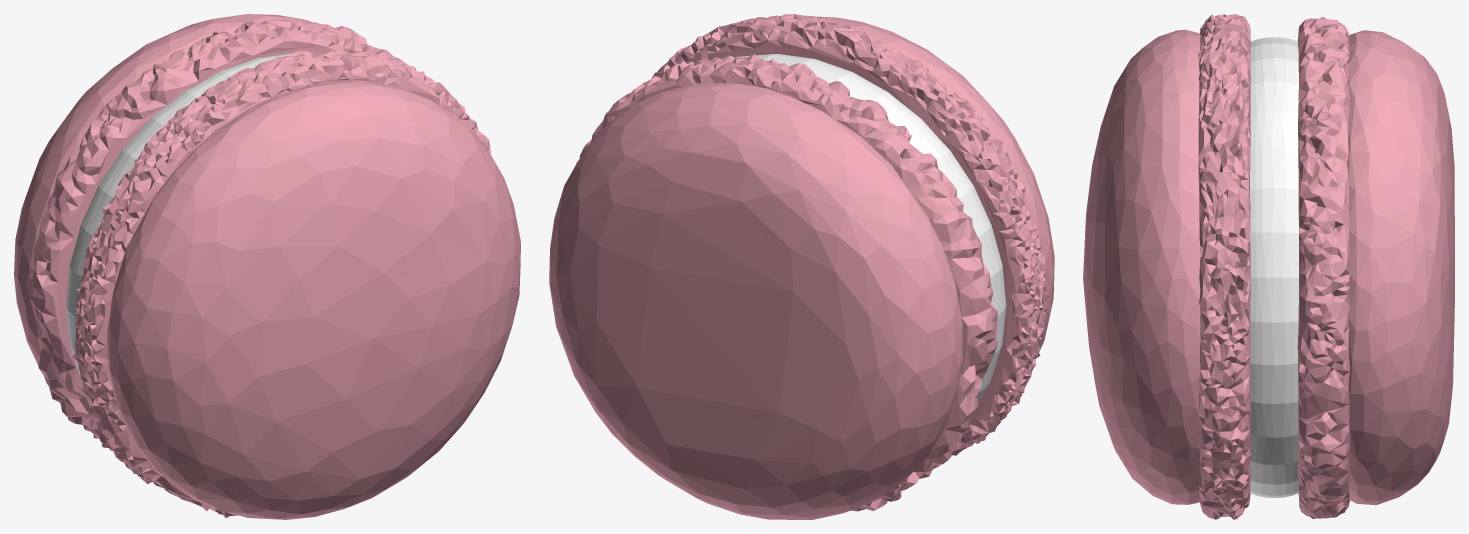
File: macaroon.glb
The picture shows the model from 3 angles, left to right: view 1: azimuth 30°, elevation 25°; view 2: azimuth 150°, elevation 25°; view 3: azimuth 270°, elevation 25°; orthographic projection. The views are drawn at different scales.
Parts seen in each view (by area): view 1: macaroon_body, macaroon_cream; view 2: macaroon_body, macaroon_cream; view 3: macaroon_body, macaroon_cream.
Part boxes in pixels (x1,y1,x2,y2): macaroon_body: (14, 14, 520, 519); macaroon_cream: (66, 53, 291, 377); macaroon_body: (549, 14, 1054, 519); macaroon_cream: (735, 54, 1006, 402); macaroon_body: (1083, 14, 1454, 519); macaroon_cream: (1250, 37, 1298, 497).
Size of the model in its own units: 15.71 by 15.86 by 11.55.
